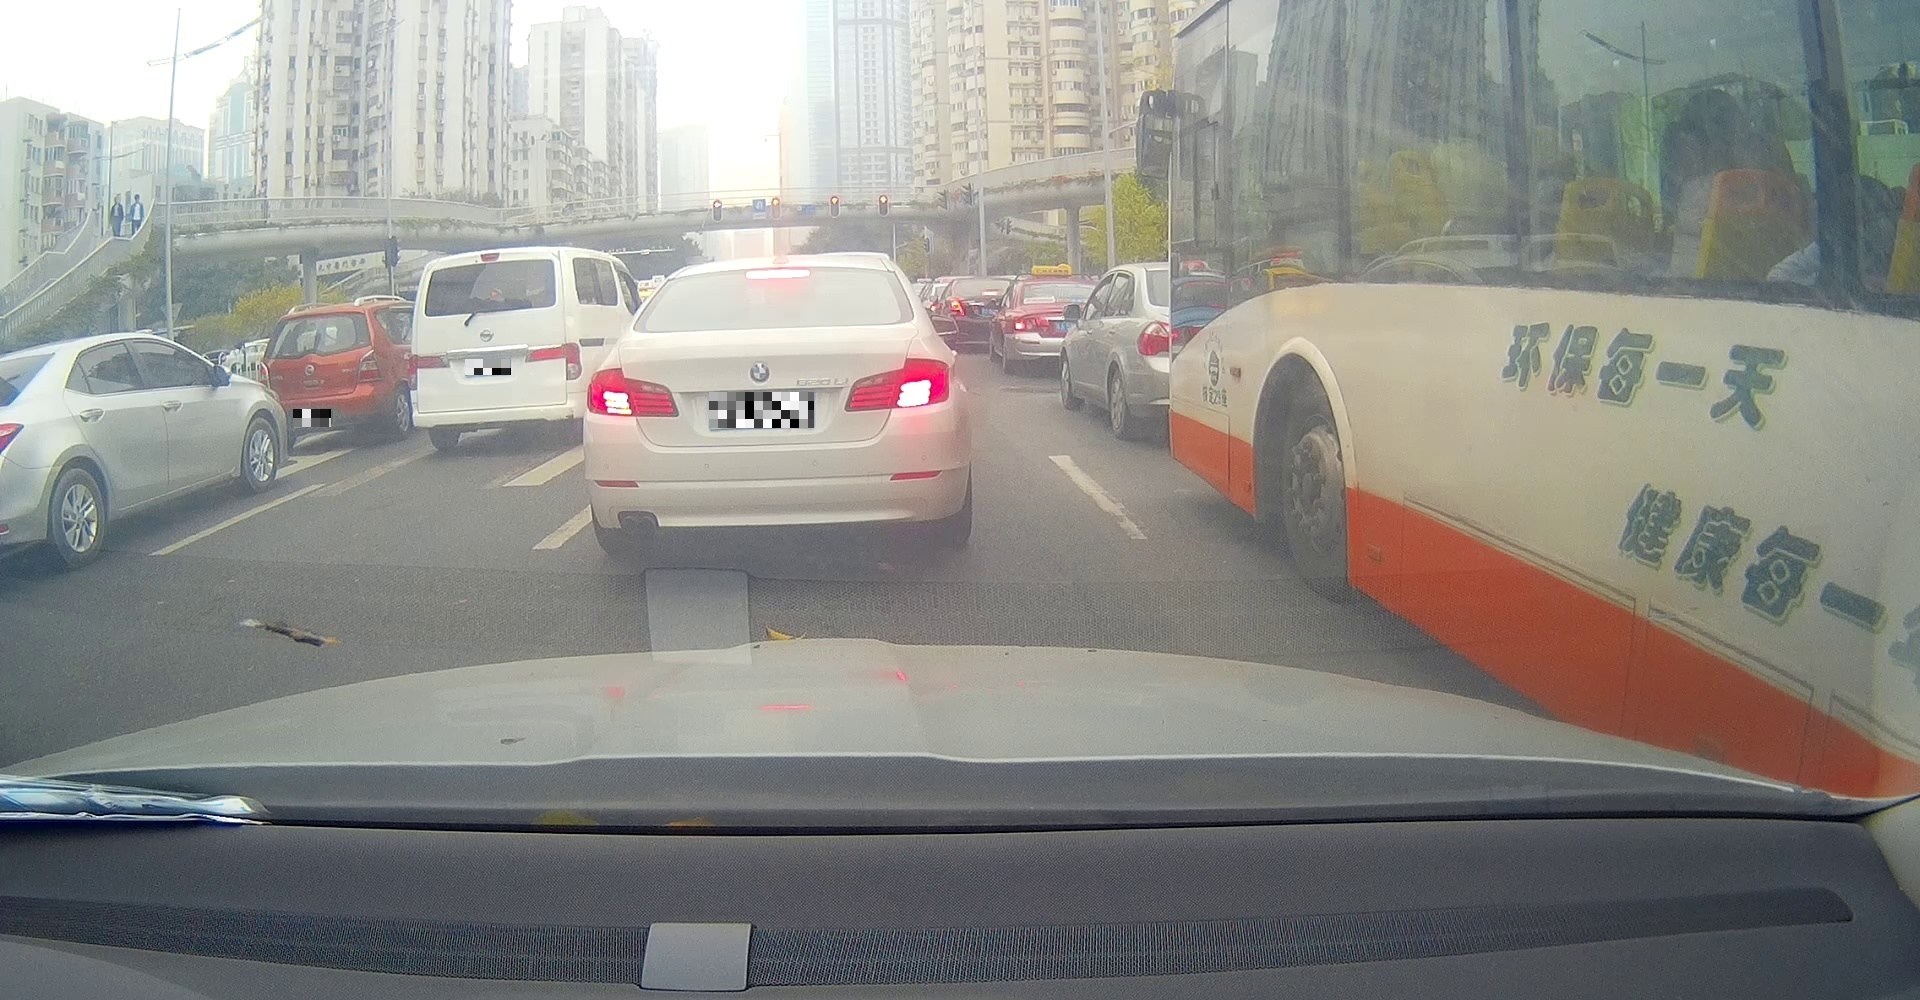L_light: (585, 368, 679, 418), (408, 354, 447, 390), (258, 360, 270, 393)
R_light: (844, 357, 949, 411), (530, 343, 582, 379), (357, 350, 381, 385)
T_light: (745, 269, 811, 280), (480, 253, 502, 263), (309, 313, 335, 321)
day-brake: (584, 258, 971, 558)
day-no: (408, 246, 583, 451), (257, 305, 392, 453)
plate_1: (293, 409, 331, 426)
plate_2: (465, 359, 510, 376)
plate_3: (709, 392, 814, 428)
